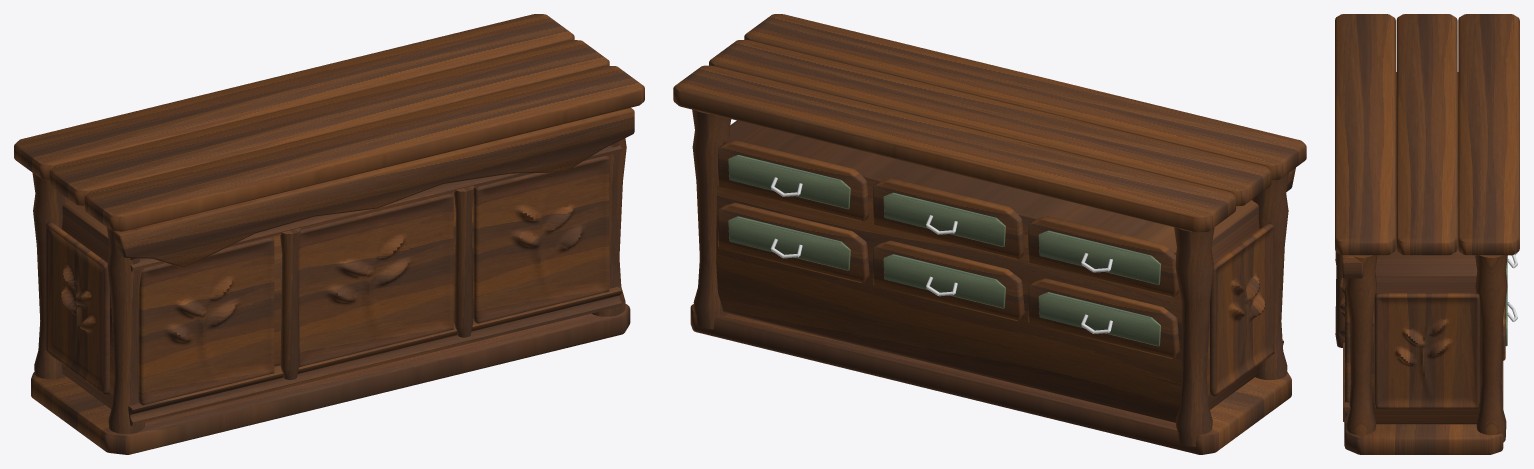
The model's file is CM_R06_SalesCounter.fbx.
The picture shows the model from 3 angles, left to right: view 1: azimuth 30°, elevation 25°; view 2: azimuth 150°, elevation 25°; view 3: azimuth 270°, elevation 25°; orthographic projection. The views are drawn at different scales.
Visible parts, largest first — view 1: CM_R06_SalesCounter; view 2: CM_R06_SalesCounter; view 3: CM_R06_SalesCounter.
Boxes of the visible parts, bbox=[...] form: CM_R06_SalesCounter: bbox=[14, 14, 644, 454]; CM_R06_SalesCounter: bbox=[673, 14, 1306, 454]; CM_R06_SalesCounter: bbox=[1335, 14, 1519, 454].
Bounding box in the file's own units: 2.28 × 1.01 × 0.78.
